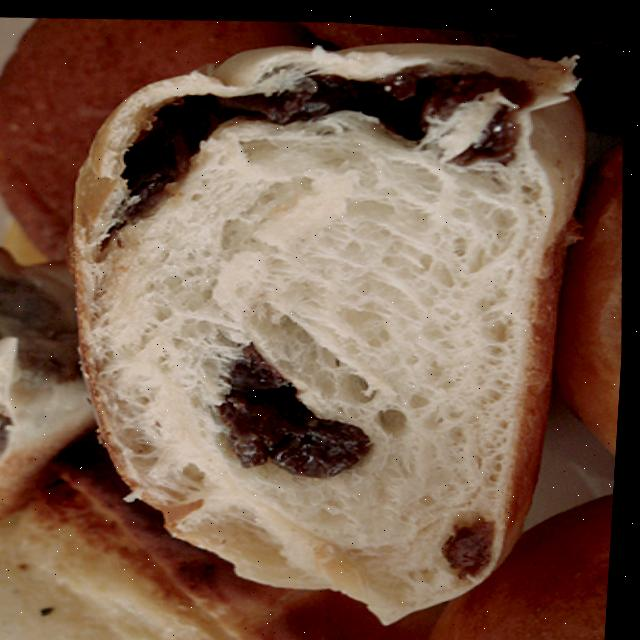面包点心: (0, 11, 621, 640)
